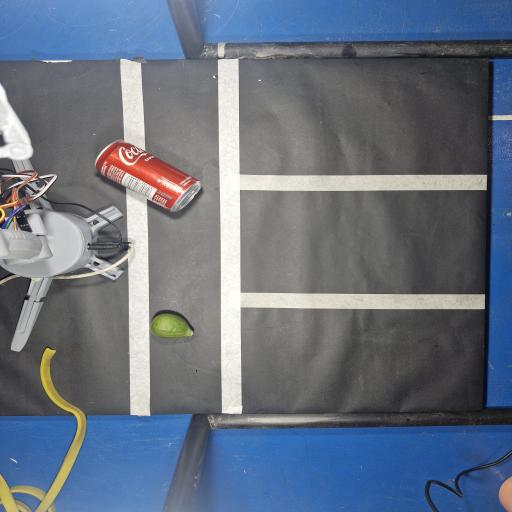higo: (150, 313, 193, 338)
lata: (96, 141, 200, 211)
